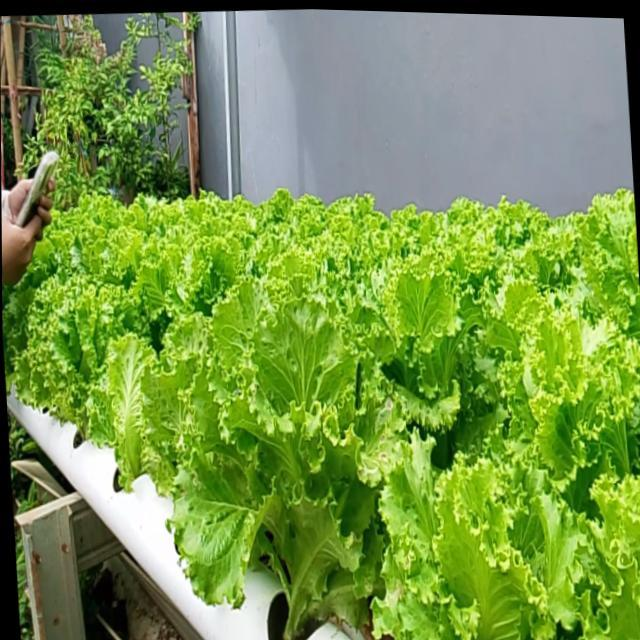Mature: (2, 187, 640, 640), (184, 312, 393, 632), (2, 243, 154, 472)
